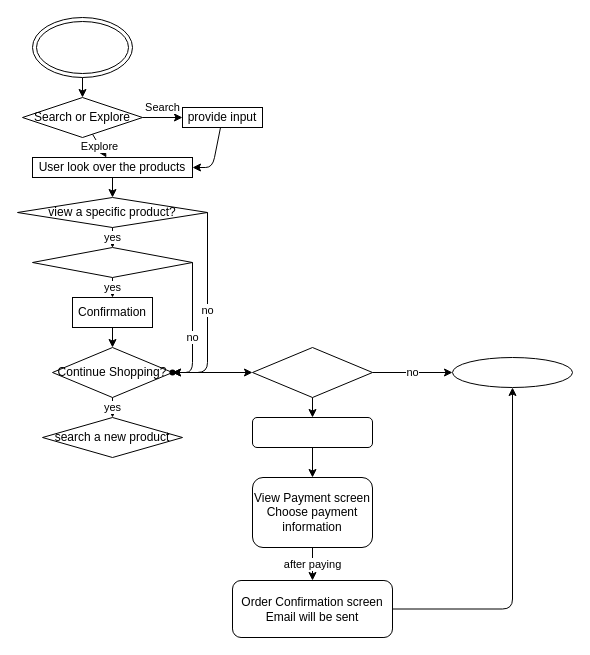
The diagram is 590 pixels wide and 655 high, and some of its shapes have lost their labels. The shapes that lost their labels are listed below. From the top down, each one's centre as x and y in pixels, then its label:
At pixel 82 47: "Start".
At pixel 112 262: "Add it to the cart?".
At pixel 312 372: "Checkout?".
At pixel 512 372: "leave the page".
At pixel 312 432: "View Cart screen".
